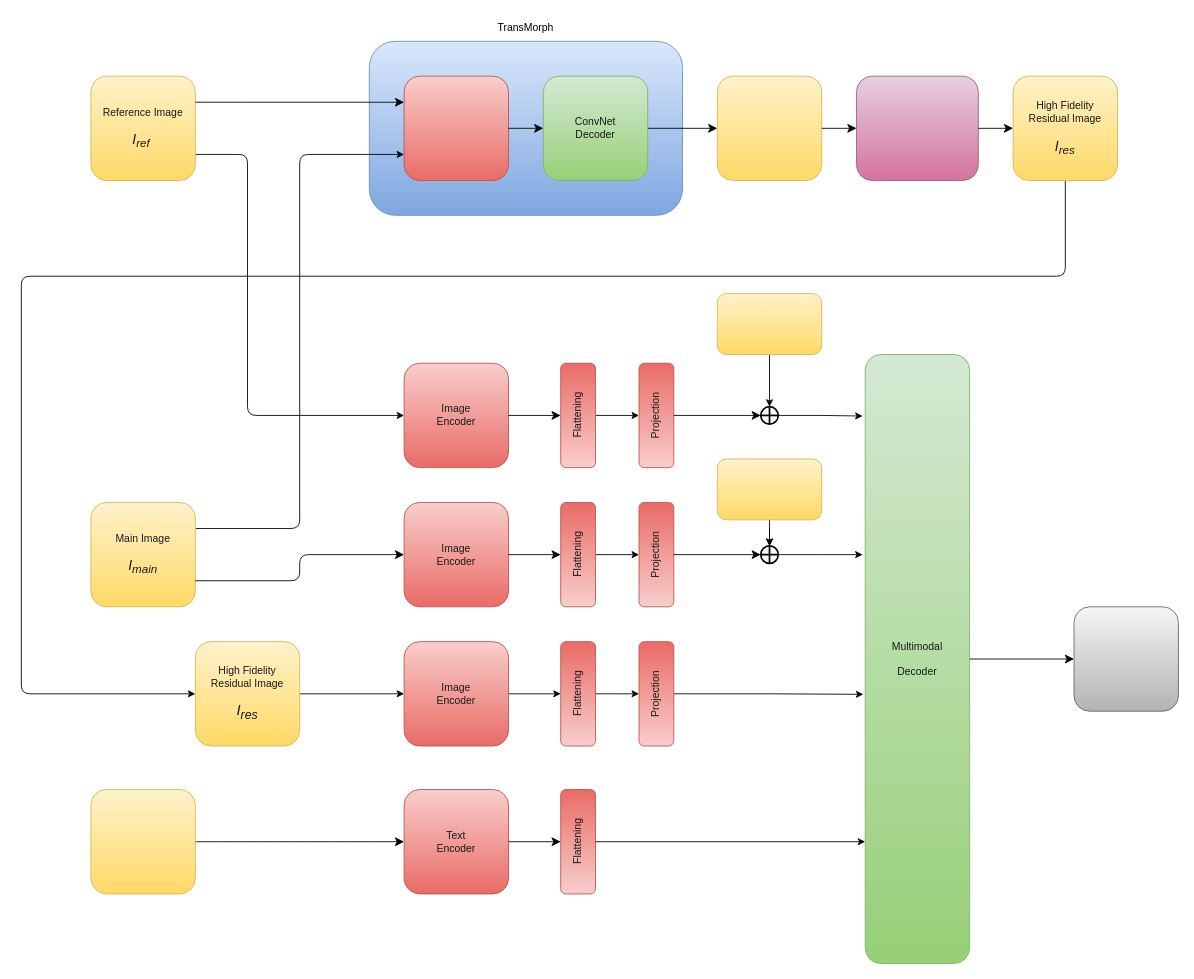
Image size: 1194x979. Some labels were removed from this diagram. Here are the shapes that lost their labels. From the top down, the centre of each, then its label:
(x=456, y=128): Transformer Encoder
(x=769, y=128): Registered Ref Image I reg
(x=917, y=128): Pixel-wise Difference I main - I reg
(x=769, y=324): Time Encoding T ref
(x=769, y=489): Time Encoding T main
(x=1125, y=658): Generated Answer
(x=142, y=841): Text Question Q
